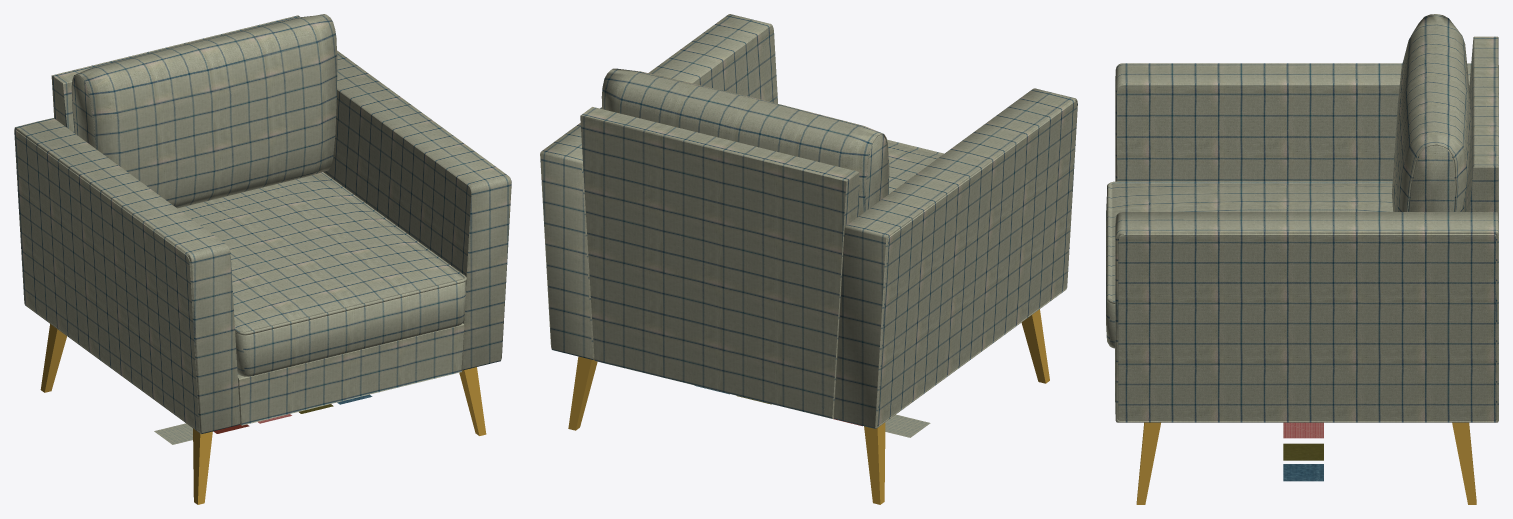
Rendered from Armchair.glb.
3 views of the same model, side by side, from view 1: azimuth 30°, elevation 25°; view 2: azimuth 150°, elevation 25°; view 3: azimuth 270°, elevation 25° (orthographic). The views are drawn at different scales.
Visible parts, largest first — view 1: armchair.001; view 2: armchair.001; view 3: armchair.001.
Boxes of the visible parts, <box> form: armchair.001: <box>14,14,511,504</box>; armchair.001: <box>540,14,1077,504</box>; armchair.001: <box>1106,14,1498,504</box>.
Bounding box in the file's own units: 0.8001 × 0.7728 × 0.7811.
Materials: 6 (5 with a texture image).
